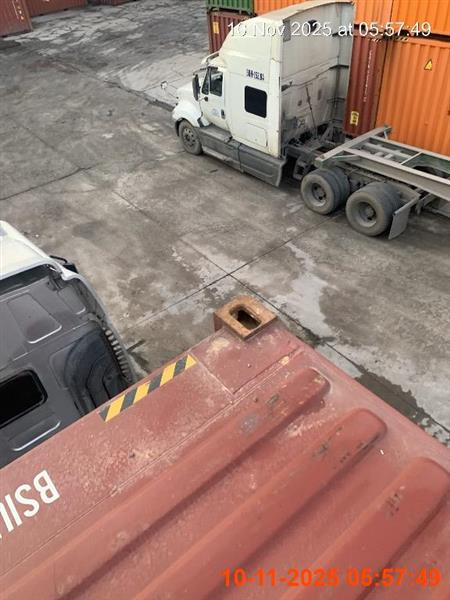crack: (0, 221, 449, 597), (169, 0, 449, 239), (0, 219, 140, 468), (0, 219, 140, 467)
